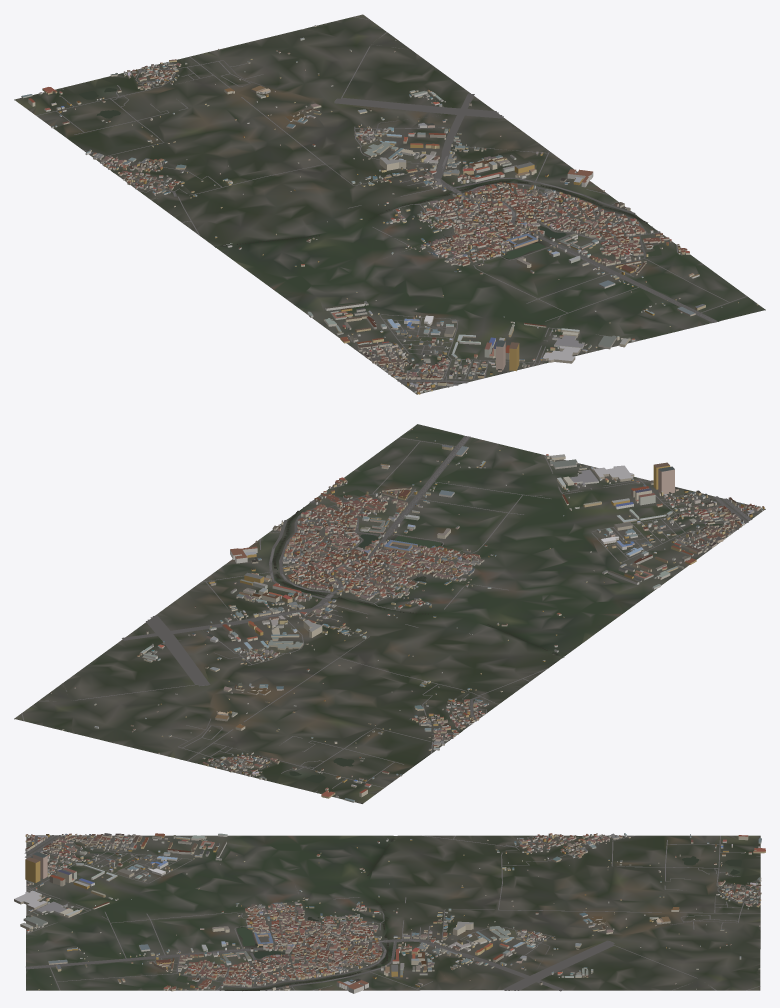
3 renders of one model, top to bottom at view 1: azimuth 30°, elevation 25°; view 2: azimuth 150°, elevation 25°; view 3: azimuth 270°, elevation 25°, orthographic. The views are drawn at different scales.
Parts seen in each view (by area): view 1: ground, buildings, roads, water; view 2: ground, buildings, roads, water; view 3: ground, buildings, roads, water.
Boxes of the visible parts, left/top/right/bottom form: ground: left=14, top=14, right=765, bottom=394; buildings: left=21, top=25, right=758, bottom=394; roads: left=36, top=16, right=747, bottom=393; water: left=79, top=88, right=661, bottom=259; ground: left=14, top=424, right=765, bottom=803; buildings: left=51, top=428, right=764, bottom=802; roads: left=21, top=436, right=761, bottom=792; water: left=273, top=489, right=562, bottom=783; ground: left=26, top=835, right=760, bottom=990; buildings: left=14, top=833, right=765, bottom=993; roads: left=24, top=835, right=760, bottom=991; water: left=176, top=836, right=741, bottom=990.
Size of the model in its own units: 1440 by 94.1 by 2871.
